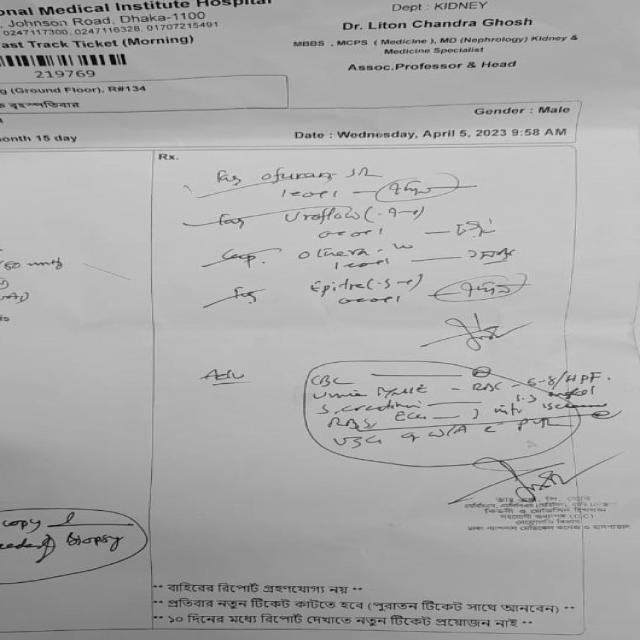medicine: (268, 201, 368, 226), (257, 161, 348, 185), (291, 242, 384, 264), (302, 270, 370, 298)
